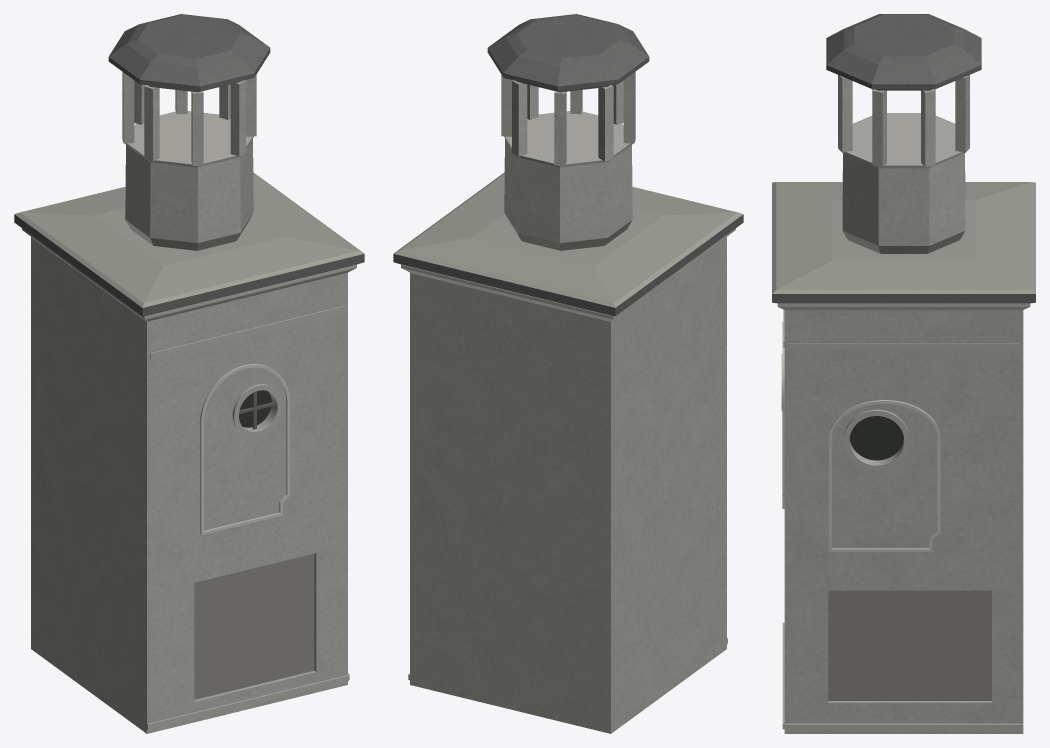
Rendered from yangpu-yangshupu-fire-brigade-historic-tower-crown-raw.glb.
3 views of the same model, side by side, from view 1: azimuth 30°, elevation 25°; view 2: azimuth 150°, elevation 25°; view 3: azimuth 270°, elevation 25° (orthographic). The views are drawn at different scales.
Visible parts, largest first — view 1: 杨树浦救火会旧望塔圆眼与敞亭塔冠; view 2: 杨树浦救火会旧望塔圆眼与敞亭塔冠; view 3: 杨树浦救火会旧望塔圆眼与敞亭塔冠.
Part boxes in pixels (bbox=[...]): 杨树浦救火会旧望塔圆眼与敞亭塔冠: bbox=[14, 14, 364, 733]; 杨树浦救火会旧望塔圆眼与敞亭塔冠: bbox=[393, 14, 743, 733]; 杨树浦救火会旧望塔圆眼与敞亭塔冠: bbox=[772, 14, 1035, 733].
Size of the model in its own units: 1.11 by 3 by 1.11.
9 materials, 2 textured.
